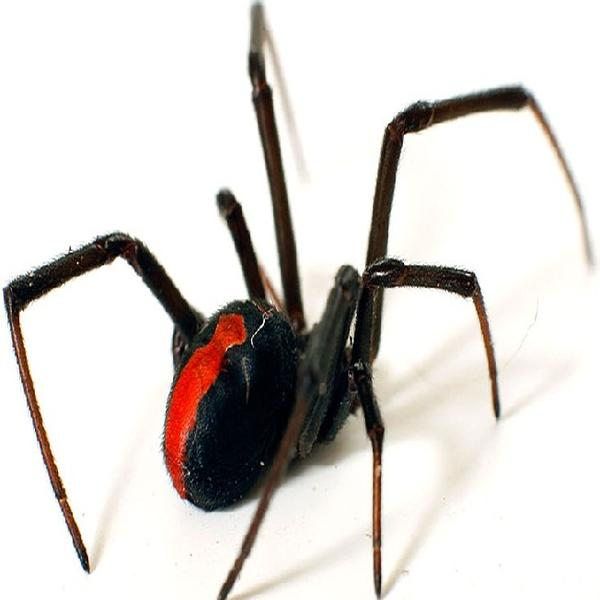Redback Spider: (10, 3, 582, 586)
